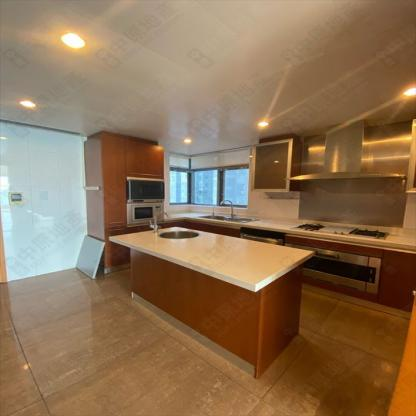Cupboard: (102, 135, 164, 228), (250, 139, 303, 192)
Exhaust Hood: (281, 119, 407, 180)
Faucet: (219, 198, 238, 218), (152, 210, 168, 231)
Oven: (284, 242, 385, 293), (125, 177, 164, 226)
Sink: (197, 214, 259, 223), (158, 231, 199, 238)
Stove: (290, 222, 388, 240)
